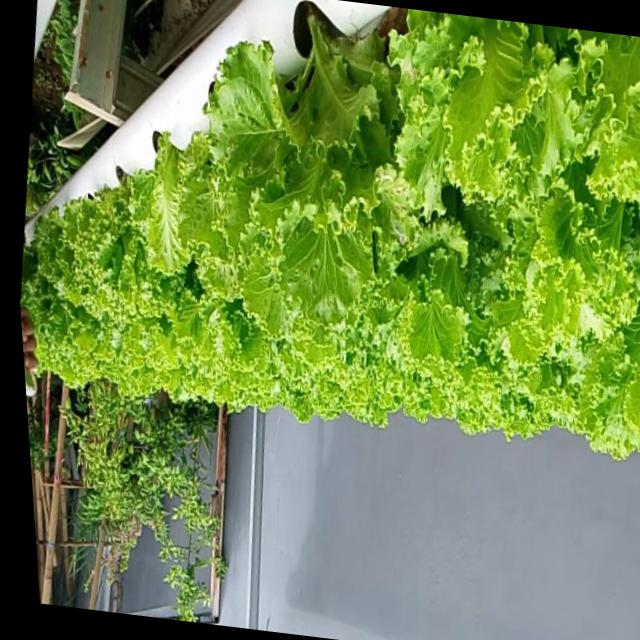Mature: (20, 3, 640, 457), (186, 3, 407, 331), (61, 167, 167, 327)
